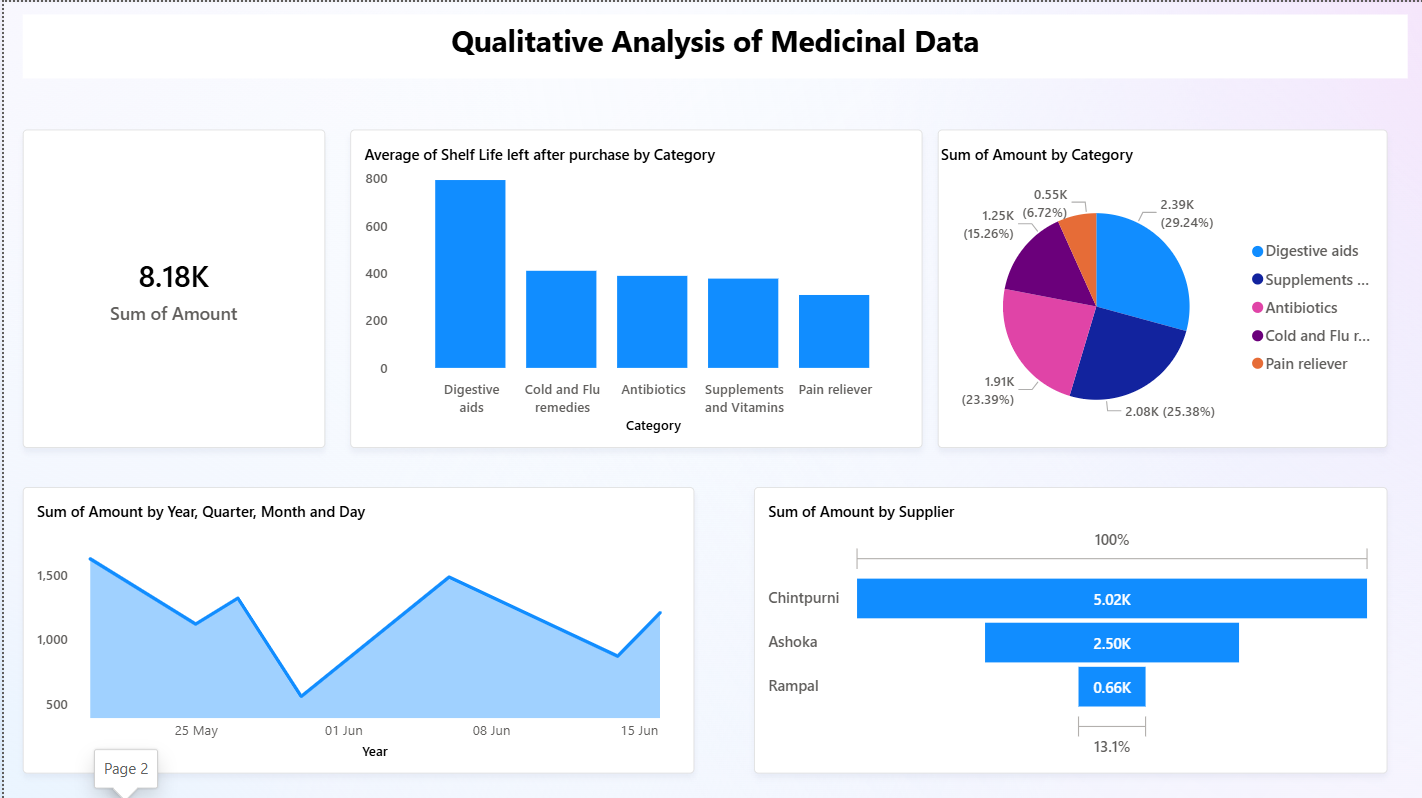

Layout of this report page (visuals, bound fields, positions):
{"tool":"powerbi","page":{"name":"Page 2","canvas":[1280,720],"ordinal":1},"visuals":[{"type":"clusteredColumnChart","fields":{"Y":["Avg(Medicinal Purchase.Shelf Life left after purchase)"],"Category":["Medicinal Purchase.Category"]},"box":[312.2,114.4,516.2,287.4],"z":0},{"type":"lineChart","fields":{"Y":["Sum(Medicinal Purchase.Amount)"],"Category":["Medicinal Purchase.Date.Variation.Date Hierarchy.Year","Medicinal Purchase.Date.Variation.Date Hierarchy.Quarter","Medicinal Purchase.Date.Variation.Date Hierarchy.Month","Medicinal Purchase.Date.Variation.Date Hierarchy.Day"]},"box":[17.4,437.9,605.8,258.7],"z":1000},{"type":"funnel","fields":{"Category":["Medicinal Purchase.Supplier"],"Y":["Sum(Medicinal Purchase.Amount)"]},"box":[676.7,437.9,571,258.7],"z":2000},{"type":"card","fields":{"Values":["Sum(Medicinal Purchase.Amount)"]},"box":[17.4,114.4,272.4,287.4],"z":3000},{"type":"pieChart","fields":{"Y":["Sum(Medicinal Purchase.Amount)"],"Category":["Medicinal Purchase.Category"]},"box":[842.2,114.4,405.5,287.4],"z":4000},{"type":"textbox","box":[16.9,11.3,1248.8,57.5],"z":5000}]}

Visuals, with their boxes in screenshot pixels (x1, y1, x2, y2), scaled from the page's 1280x720 canvas onto the 1422x798 screenshot:
clusteredColumnChart - Avg(Medicinal Purchase.Shelf Life left after purchase) x Medicinal Purchase.Category: locate(347, 127, 920, 445)
lineChart - Sum(Medicinal Purchase.Amount) x Medicinal Purchase.Date.Variation.Date Hierarchy.Year: locate(19, 485, 692, 772)
funnel - Medicinal Purchase.Supplier x Sum(Medicinal Purchase.Amount): locate(752, 485, 1386, 772)
card - Sum(Medicinal Purchase.Amount): locate(19, 127, 322, 445)
pieChart - Sum(Medicinal Purchase.Amount) x Medicinal Purchase.Category: locate(936, 127, 1386, 445)
textbox: locate(19, 13, 1406, 76)
